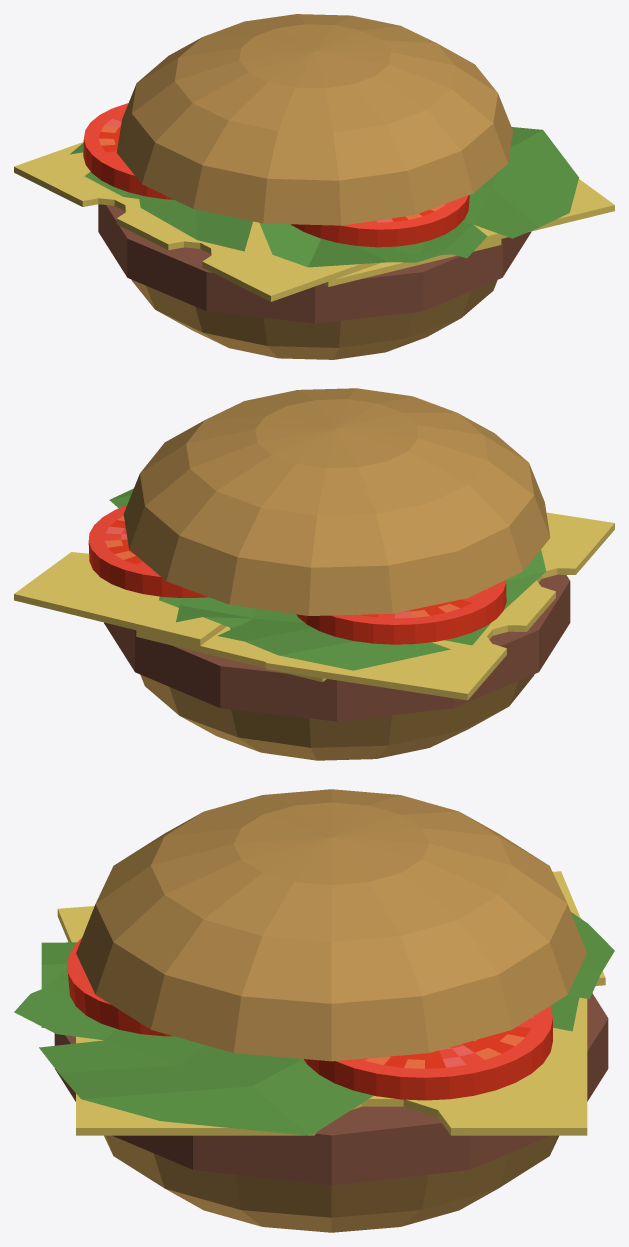
Rendered from Plate_Complete.fbx.
The picture shows the model from 3 angles, top to bottom: view 1: azimuth 30°, elevation 25°; view 2: azimuth 150°, elevation 25°; view 3: azimuth 270°, elevation 25°; orthographic projection. The views are drawn at different scales.
Visible parts, largest first — view 1: Bread, Meat_Patty_Cooked, Cabbage_Slices, Cheese_Slices, Tomato_Slices; view 2: Bread, Cheese_Slices, Meat_Patty_Cooked, Tomato_Slices, Cabbage_Slices; view 3: Bread, Cabbage_Slices, Meat_Patty_Cooked, Cheese_Slices, Tomato_Slices.
Boxes of the visible parts, bbox=[...] form: Bread: bbox=[117, 14, 512, 359]; Meat_Patty_Cooked: bbox=[98, 204, 531, 323]; Cabbage_Slices: bbox=[70, 127, 578, 267]; Cheese_Slices: bbox=[14, 142, 614, 301]; Tomato_Slices: bbox=[83, 103, 469, 247]; Bread: bbox=[123, 388, 550, 760]; Cheese_Slices: bbox=[14, 512, 614, 700]; Meat_Patty_Cooked: bbox=[104, 574, 570, 721]; Tomato_Slices: bbox=[88, 505, 506, 644]; Cabbage_Slices: bbox=[109, 488, 545, 670]; Bread: bbox=[76, 789, 586, 1232]; Cabbage_Slices: bbox=[14, 912, 614, 1135]; Meat_Patty_Cooked: bbox=[54, 993, 608, 1185]; Cheese_Slices: bbox=[57, 871, 605, 1135]; Tomato_Slices: bbox=[67, 938, 552, 1100].
Bounding box in the file's own units: 0.747 × 0.4493 × 0.7054.
